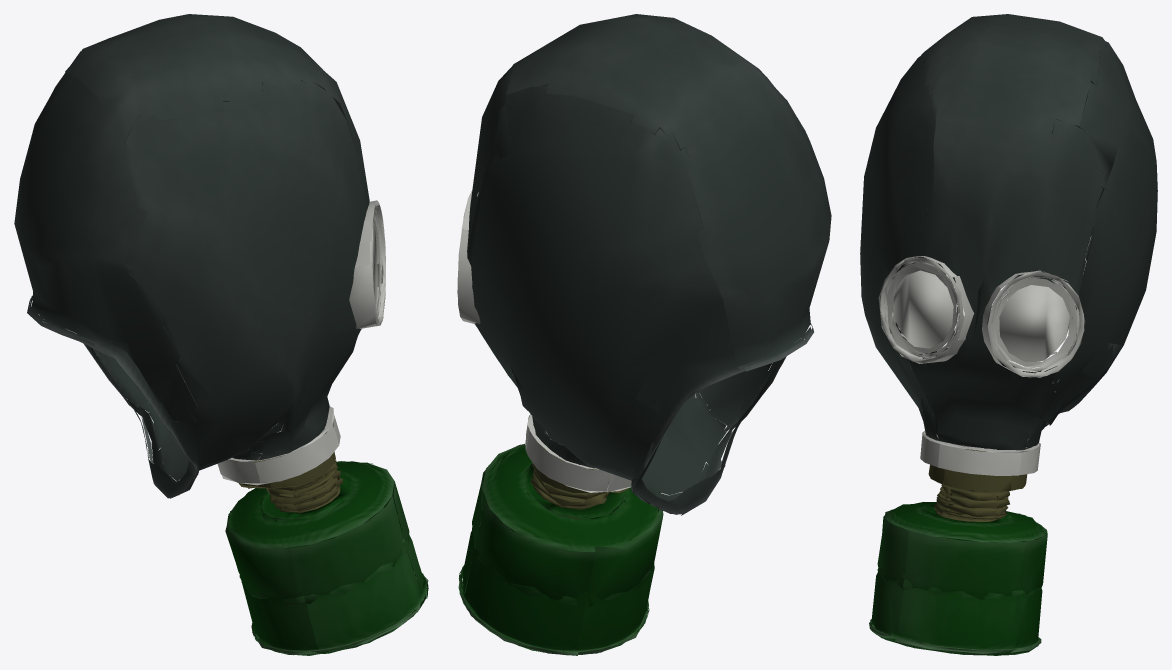
File: SM_gp_5_soviet_russian_gas_mask.glb
The picture shows the model from 3 angles, left to right: view 1: azimuth 30°, elevation 25°; view 2: azimuth 150°, elevation 25°; view 3: azimuth 270°, elevation 25°; orthographic projection. The views are drawn at different scales.
Parts seen in each view (by area): view 1: SM_gp_5_soviet_russian_gas_mask; view 2: SM_gp_5_soviet_russian_gas_mask; view 3: SM_gp_5_soviet_russian_gas_mask.
Part boxes in pixels (x1,y1,x2,y2): SM_gp_5_soviet_russian_gas_mask: (14, 14, 428, 655); SM_gp_5_soviet_russian_gas_mask: (457, 14, 831, 655); SM_gp_5_soviet_russian_gas_mask: (860, 14, 1157, 655).
Size of the model in its own units: 29.04 by 48.03 by 22.72.
1 material, 1 textured.
